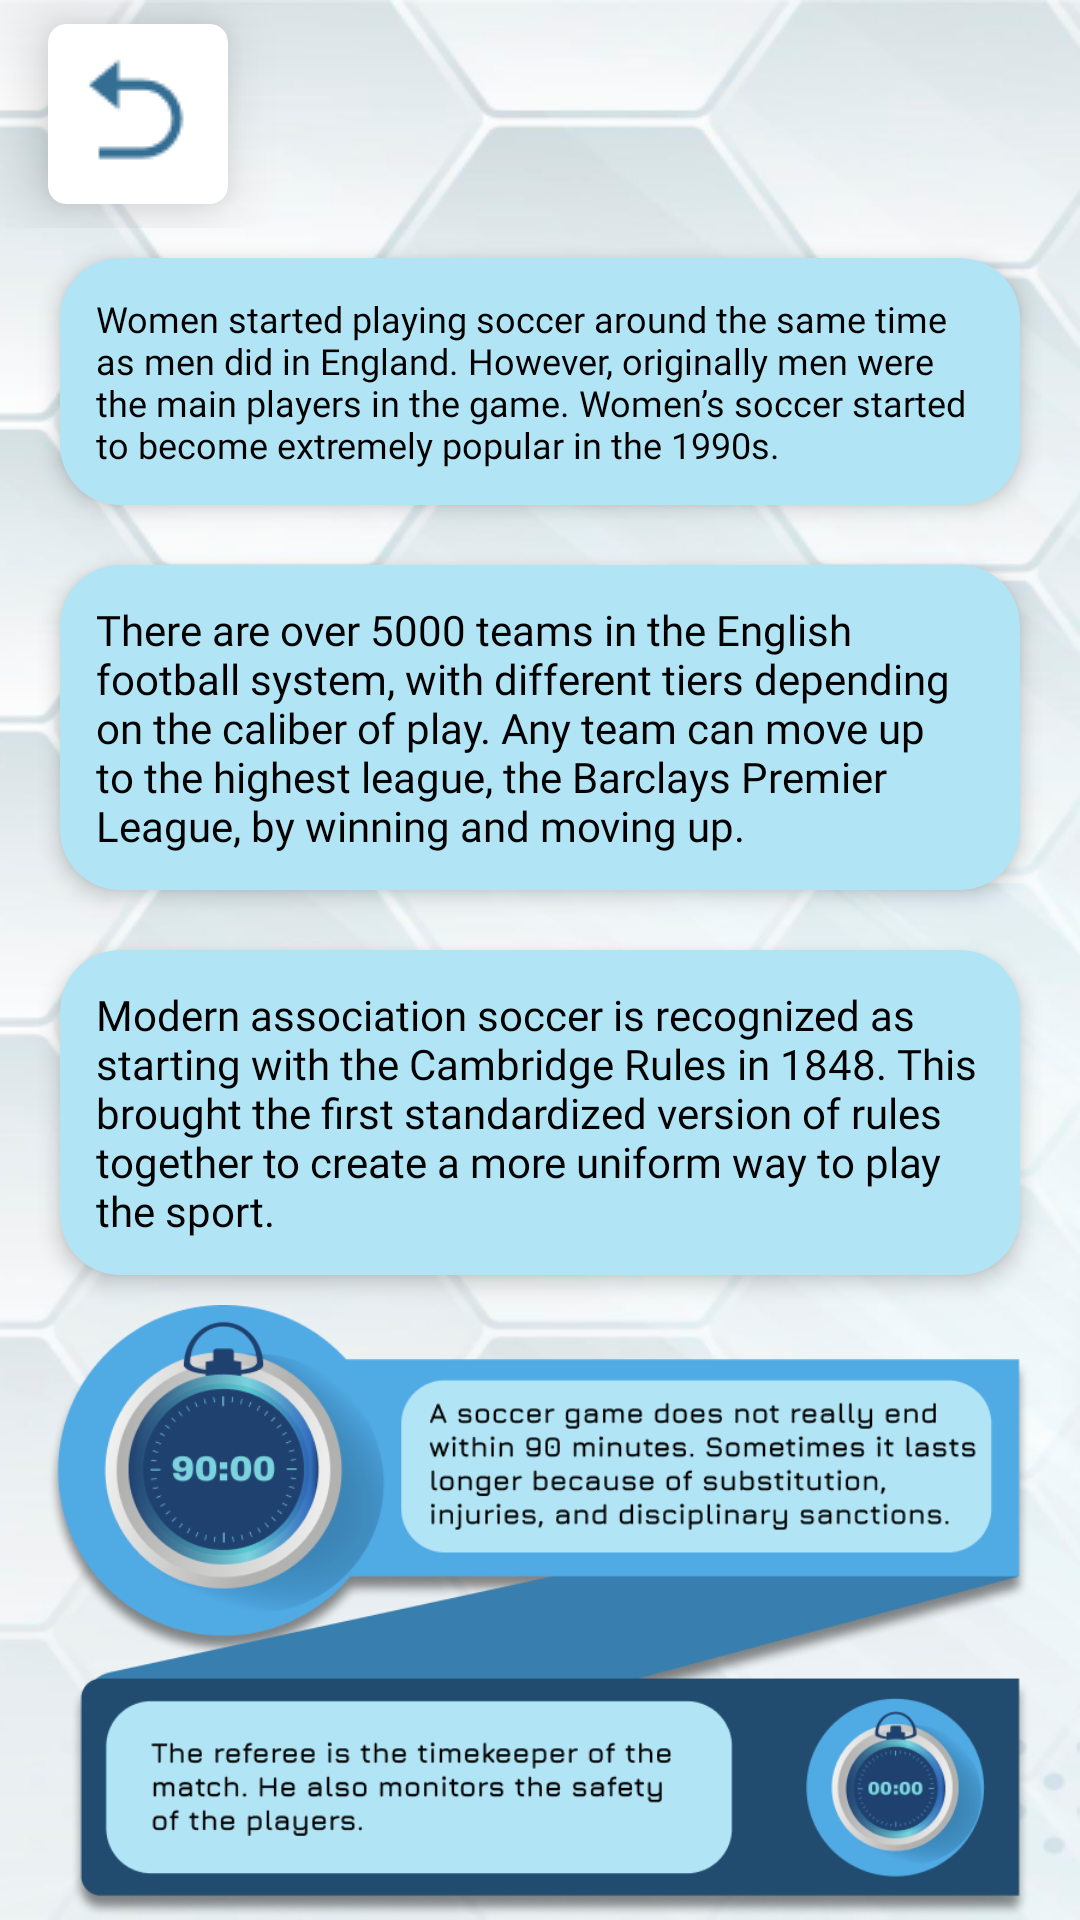

Named icons in this screenshot (1080*1920) and their bounding boxes, (x1, y1, x2, y2):
back: (48, 24, 228, 204)
